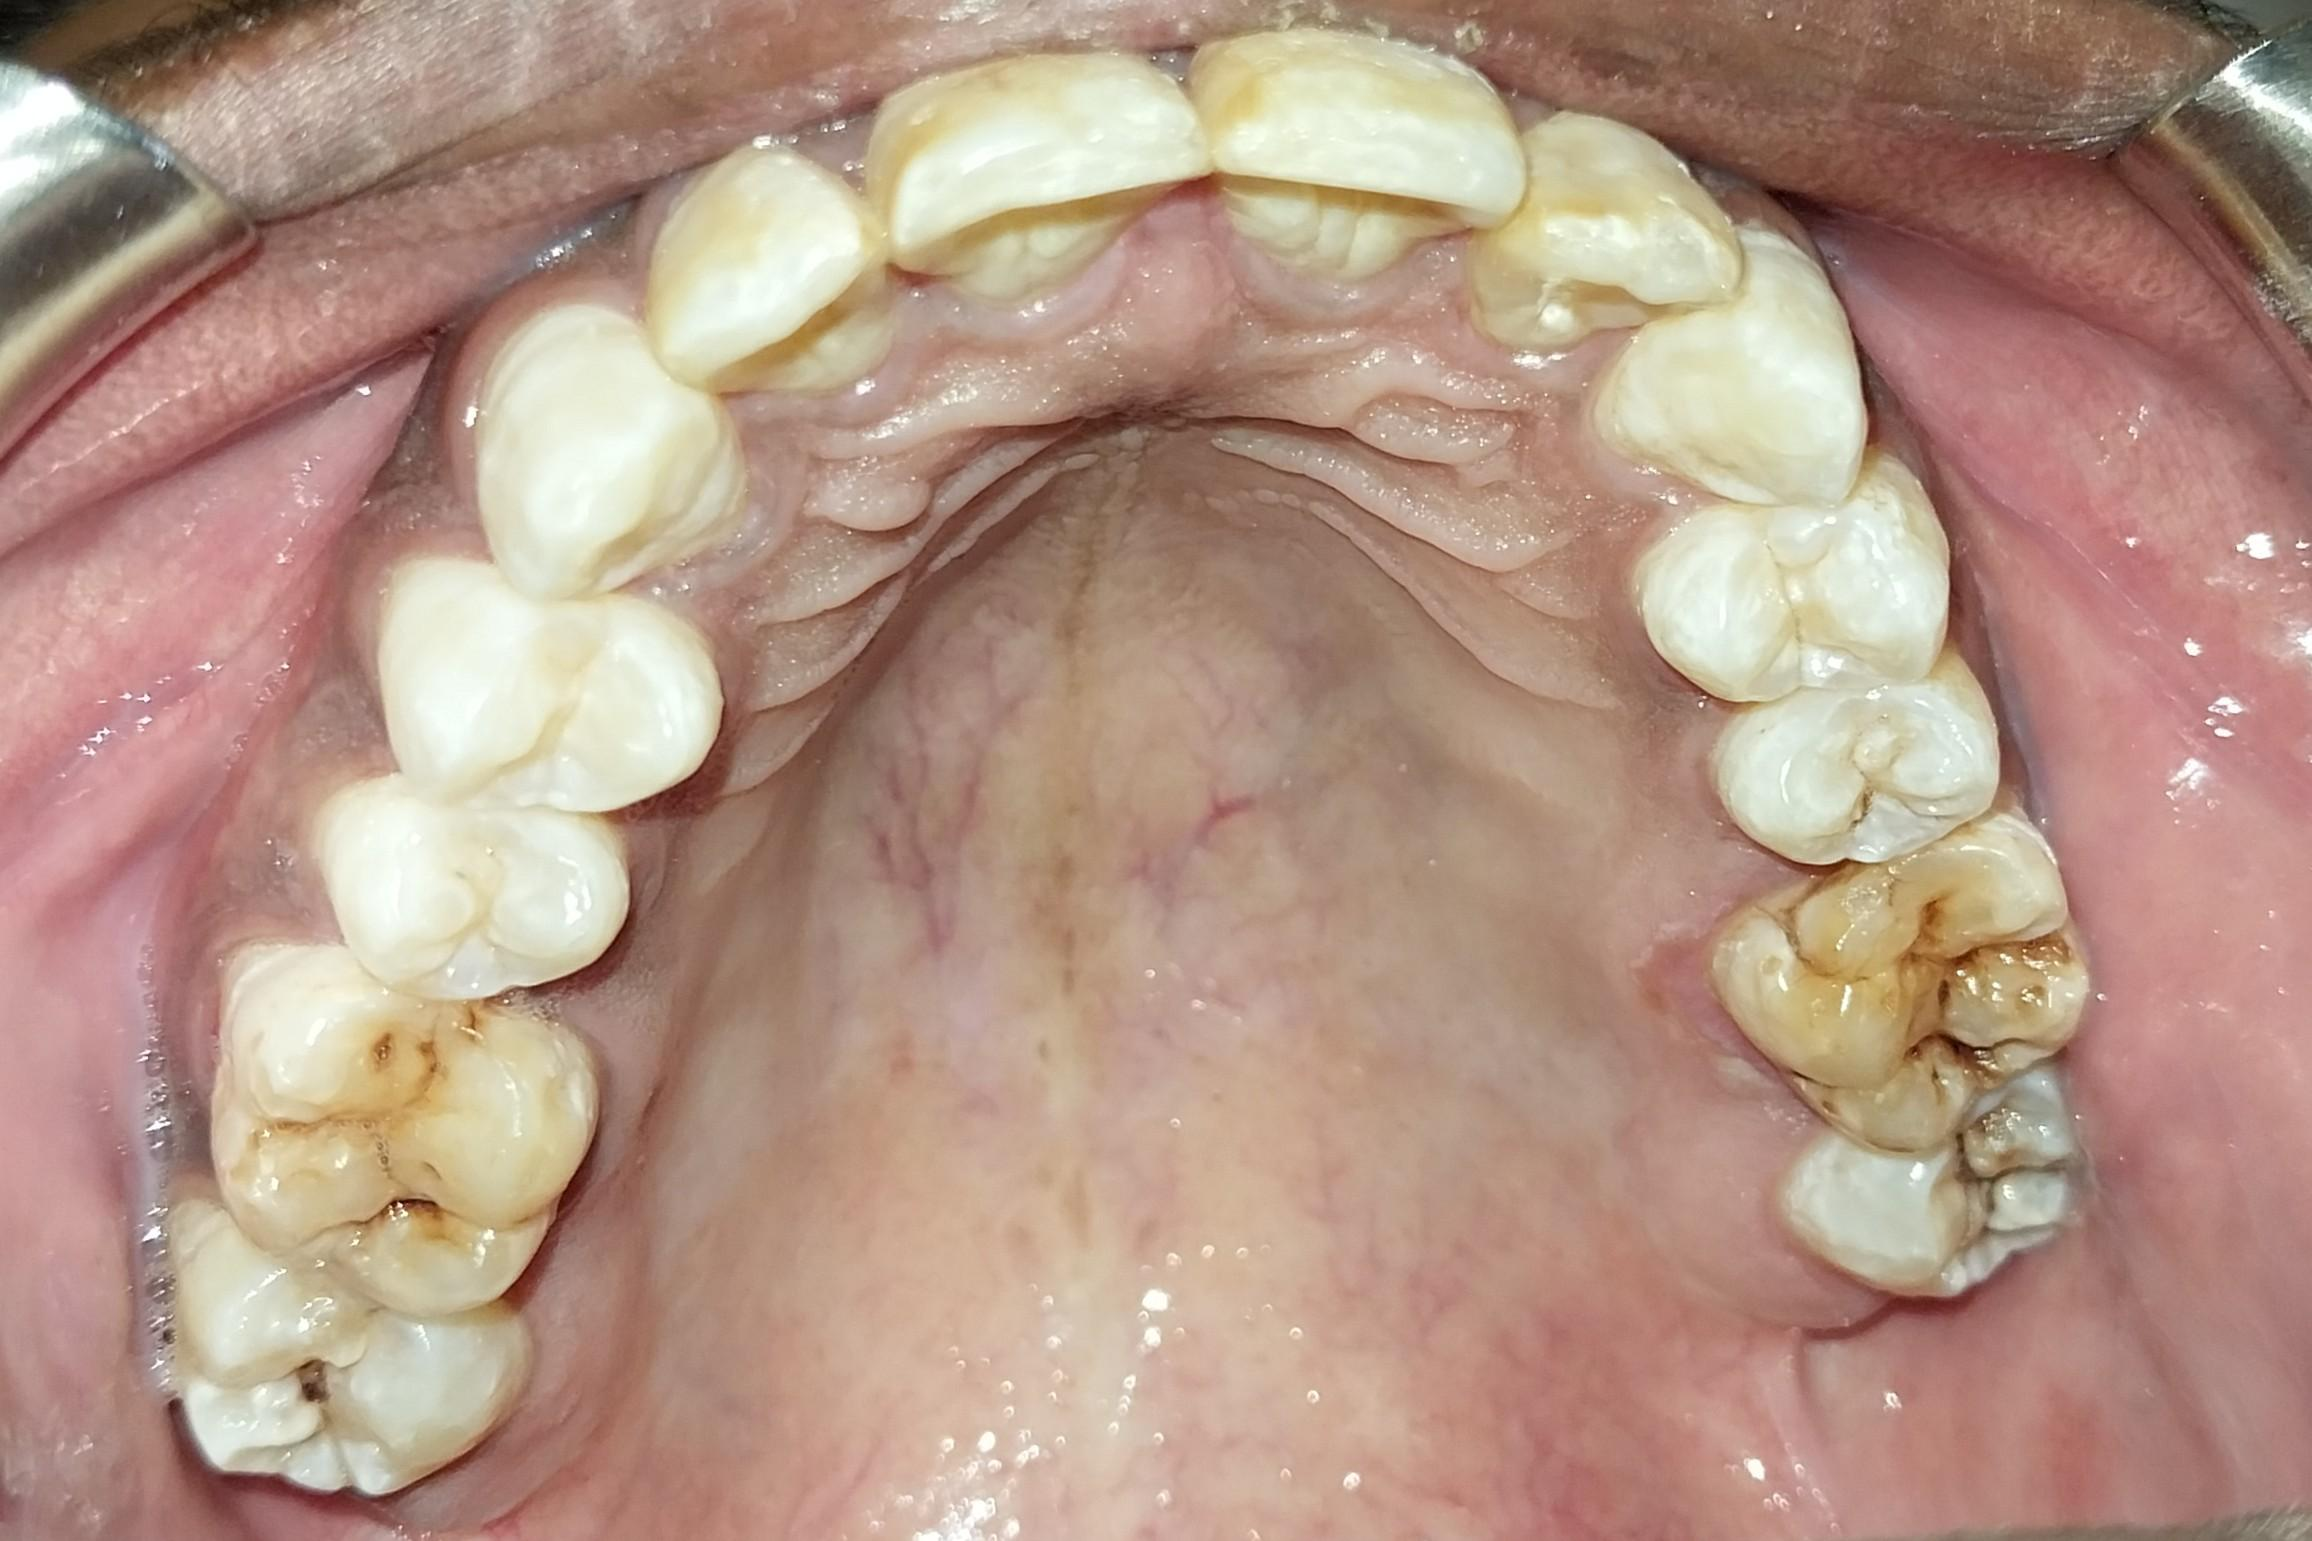D: (219, 948, 597, 1319), (1721, 819, 2088, 1139), (159, 1223, 516, 1492), (1706, 666, 1996, 866), (1821, 1063, 2074, 1292)
